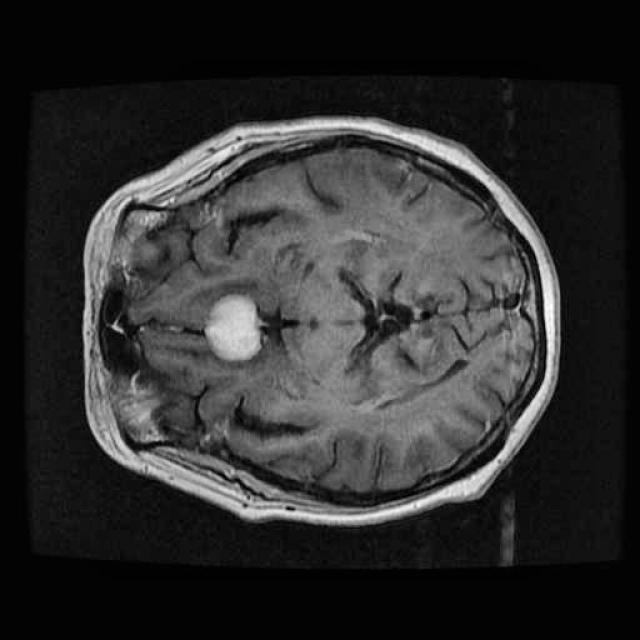Tumor: (196, 285, 272, 376)
